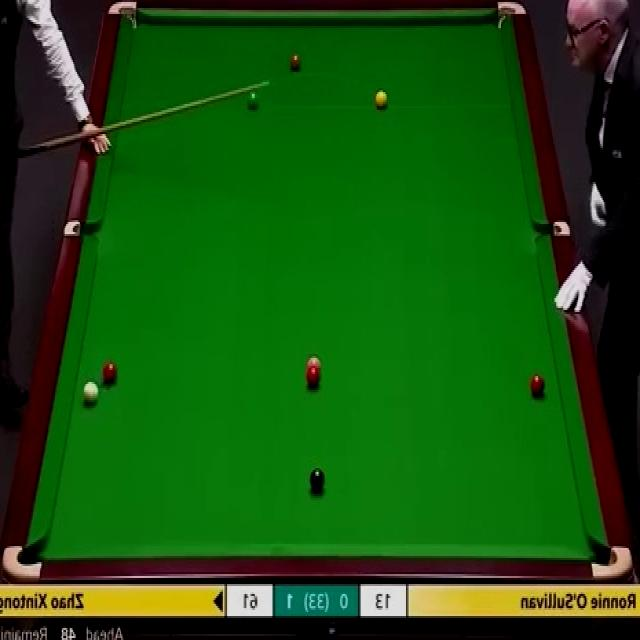black-ball: (308, 468, 326, 490)
brown-ball: (290, 55, 302, 74)
green-ball: (247, 89, 260, 110)
pink-ball: (307, 356, 322, 370)
red-ball: (529, 372, 546, 397), (101, 362, 118, 384), (306, 367, 319, 387)
white-ball: (82, 380, 99, 404)
yellow-ball: (375, 89, 389, 110)
